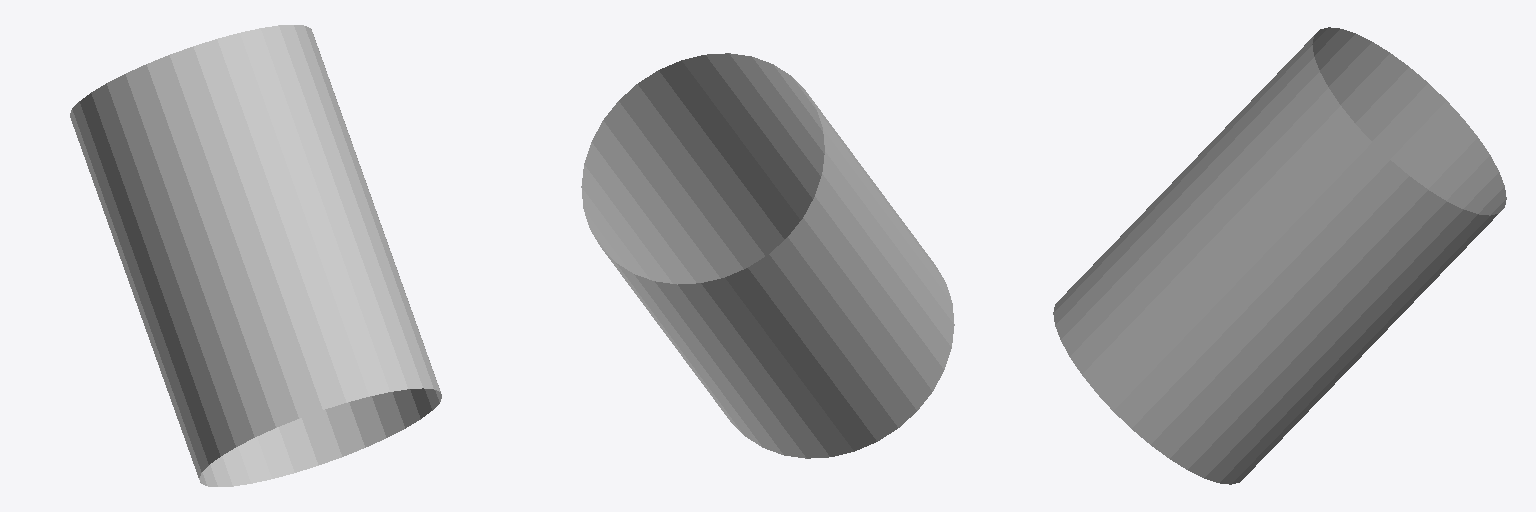
File: EngineBody5.obj
The picture shows the model from 3 angles: view 1: azimuth 30°, elevation 25°; view 2: azimuth 150°, elevation 25°; view 3: azimuth 270°, elevation 25°; orthographic projection.
Parts seen in each view (by area): view 1: VaccumCleanerBody3_Cylinder.015; view 2: VaccumCleanerBody3_Cylinder.015; view 3: VaccumCleanerBody3_Cylinder.015.
Boxes of the visible parts, x1=… form: VaccumCleanerBody3_Cylinder.015: x1=70, y1=25, x2=441, y2=486; VaccumCleanerBody3_Cylinder.015: x1=581, y1=53, x2=954, y2=458; VaccumCleanerBody3_Cylinder.015: x1=1053, y1=27, x2=1506, y2=484.
Size of the model in its own units: 0.2488 by 0.4499 by 0.4373.